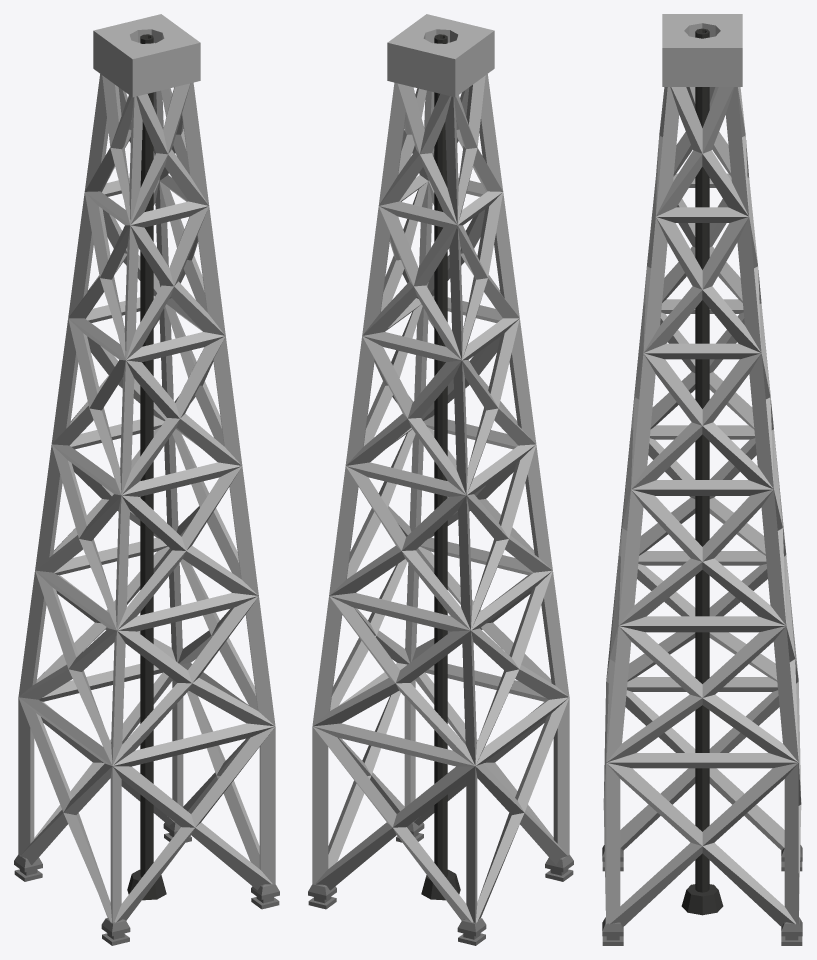
Rendered from antennePetrole.fbx.
3 renders of one model, left to right at view 1: azimuth 30°, elevation 25°; view 2: azimuth 150°, elevation 25°; view 3: azimuth 270°, elevation 25°, orthographic. The views are drawn at different scales.
Parts seen in each view (by area): view 1: Cube.044; view 2: Cube.044; view 3: Cube.044.
Part boxes in pixels (left/top/right/bottom): Cube.044: left=14, top=14, right=279, bottom=945; Cube.044: left=308, top=14, right=573, bottom=945; Cube.044: left=602, top=14, right=802, bottom=945.
Bounding box in the file's own units: 2042 × 9944 × 2064.
Materials: 1 (1 with a texture image).
